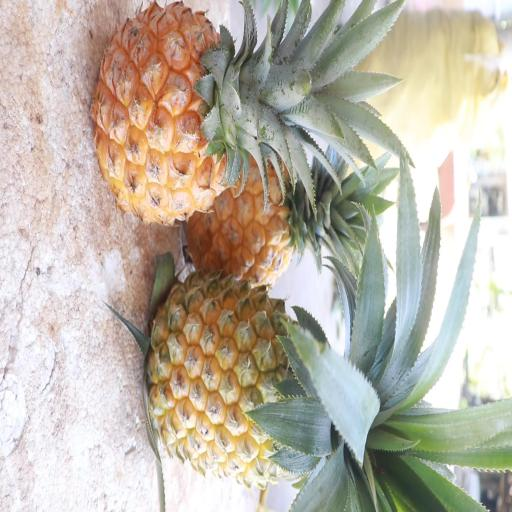Pineapple - v8 v1: (140, 273, 395, 489), (87, 0, 307, 228), (184, 130, 348, 284)
